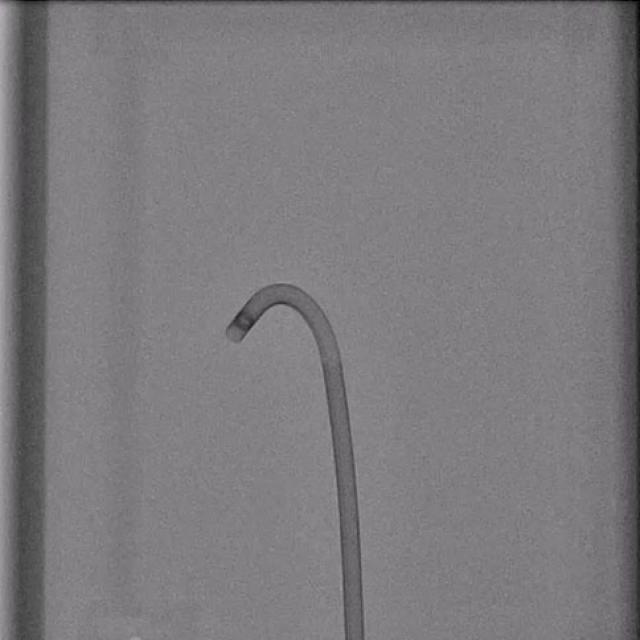bend: (318, 347, 343, 367)
entry: (345, 634, 365, 640)
marker: (234, 311, 256, 332)
tip: (225, 329, 240, 343)
